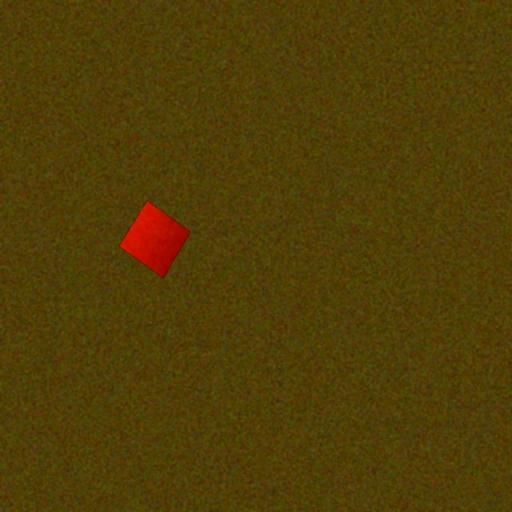RED_SQUARE: (118, 199, 192, 279)
